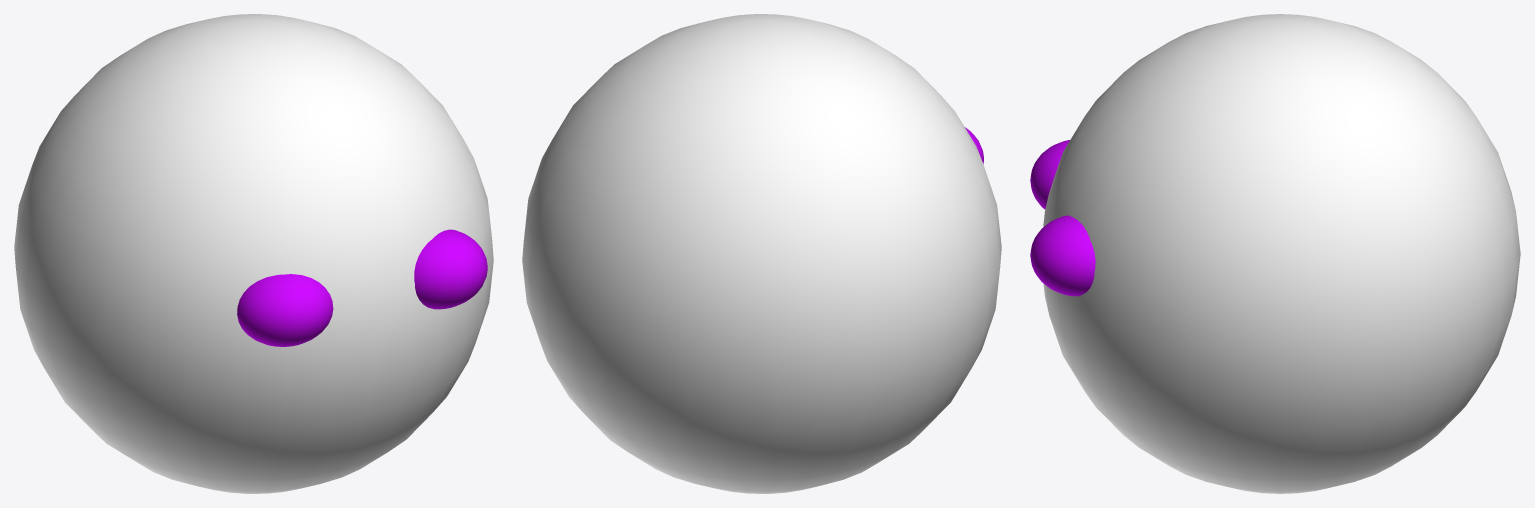
The model's file is Player.fbx.
The picture shows the model from 3 angles, left to right: view 1: azimuth 30°, elevation 25°; view 2: azimuth 150°, elevation 25°; view 3: azimuth 270°, elevation 25°; orthographic projection.
Visible parts, largest first — view 1: 球.002; view 2: 球.002; view 3: 球.002.
Boxes of the visible parts, <box> form: 球.002: <box>14,14,493,493</box>; 球.002: <box>522,14,1001,493</box>; 球.002: <box>1030,14,1520,493</box>.
Bounding box in the file's own units: 88.37 × 88.37 × 90.21.
